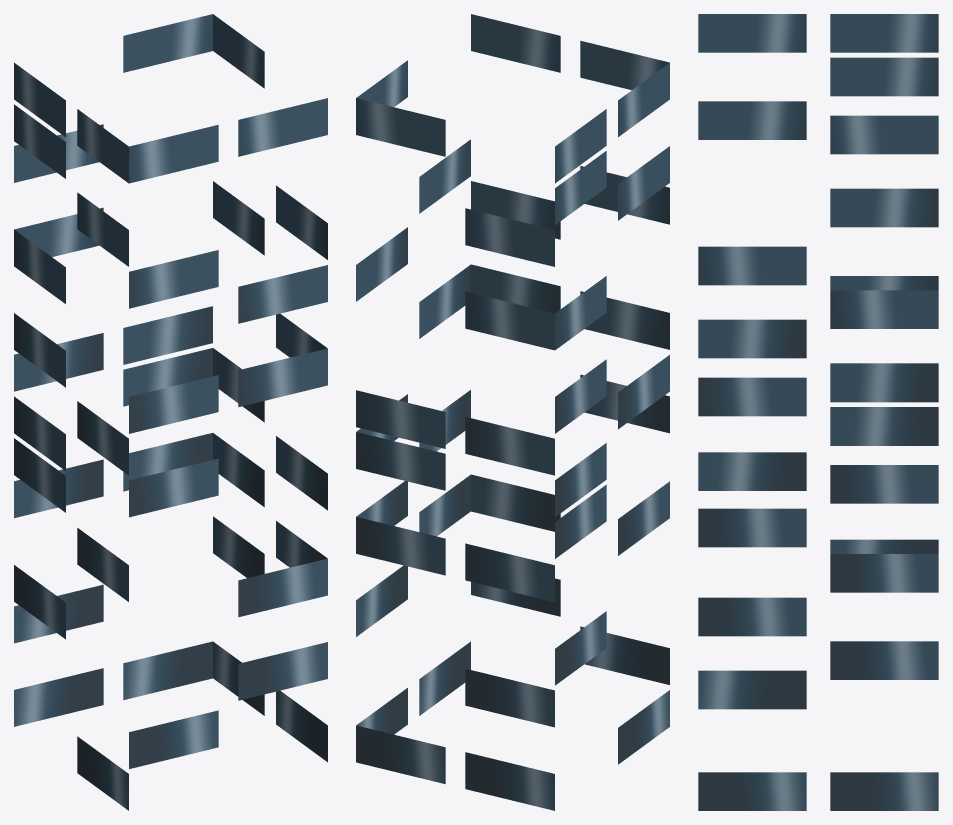
Rendered from apartmenttower1windows.fbx.
3 views of the same model, side by side, from view 1: azimuth 30°, elevation 25°; view 2: azimuth 150°, elevation 25°; view 3: azimuth 270°, elevation 25° (orthographic). The views are drawn at different scales.
Parts seen in each view (by area): view 1: apartmenttower1windows; view 2: apartmenttower1windows; view 3: apartmenttower1windows.
Part boxes in pixels (left/top/right/bottom): apartmenttower1windows: left=14, top=14, right=327, bottom=810; apartmenttower1windows: left=356, top=14, right=669, bottom=810; apartmenttower1windows: left=698, top=14, right=938, bottom=810.
Size of the model in its own units: 27.46 by 87.65 by 27.46.
